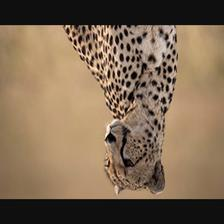Cheetha: (58, 24, 176, 195)
